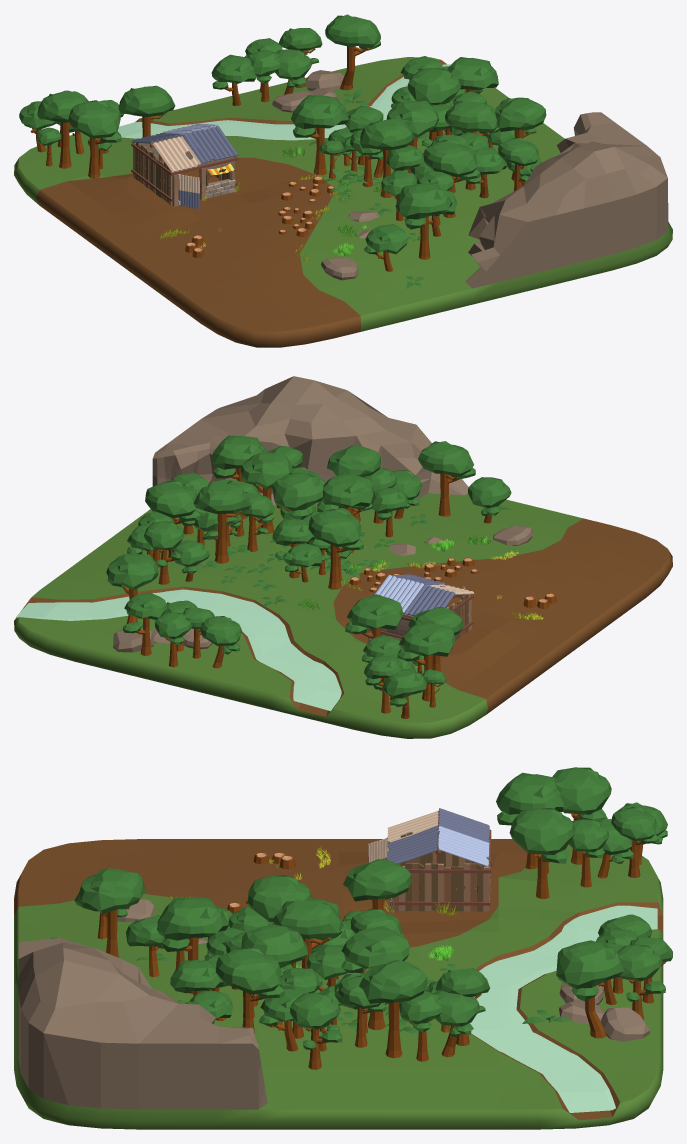
The model's file is rainforest.glb.
3 views of the same model, one above another, from view 1: azimuth 30°, elevation 25°; view 2: azimuth 150°, elevation 25°; view 3: azimuth 270°, elevation 25° (orthographic). The views are drawn at different scales.
Visible parts, largest first — view 1: Cube, Shed, Cube.041, Cube.007, Cube.040, Cube.048, Cube.045, Cube.035, Cube.014, Cube.029, Cube.056, Cube.055 (+18 smaller); view 2: Cube, Shed, Cube.007, Cube.041, Cube.040, Cube.055, Cube.029, Cube.056, Cube.008, Cube.034, Cube.014, Cube.045 (+22 smaller); view 3: Cube, Shed, Cube.045, Cube.056, Cube.020, Cube.034, Cube.035, Cube.041, Cube.040, Cube.029, Cube.055, Cube.048 (+26 smaller).
Part boxes in pixels (<box>): Cube: <box>14,57,672,347</box>; Shed: <box>131,123,238,208</box>; Cube.041: <box>272,70,379,280</box>; Cube.007: <box>291,95,348,175</box>; Cube.040: <box>395,183,452,259</box>; Cube.048: <box>68,100,121,178</box>; Cube.045: <box>325,14,380,90</box>; Cube.035: <box>423,139,480,217</box>; Cube.014: <box>360,118,415,197</box>; Cube.029: <box>407,67,461,147</box>; Cube.056: <box>118,85,175,137</box>; Cube.055: <box>37,91,88,168</box>; Cube: <box>14,376,672,738</box>; Shed: <box>368,574,474,641</box>; Cube.007: <box>308,509,363,589</box>; Cube.041: <box>113,525,532,652</box>; Cube.040: <box>418,441,475,516</box>; Cube.055: <box>397,621,455,701</box>; Cube.029: <box>193,483,250,563</box>; Cube.056: <box>345,594,403,638</box>; Cube.008: <box>272,472,323,519</box>; Cube.034: <box>145,481,200,557</box>; Cube.014: <box>317,472,373,553</box>; Cube.045: <box>106,553,158,623</box>; Cube: <box>14,839,663,1129</box>; Shed: <box>368,808,491,911</box>; Cube.045: <box>556,940,623,1038</box>; Cube.056: <box>509,808,575,898</box>; Cube.020: <box>216,947,284,1033</box>; Cube.034: <box>359,960,427,1058</box>; Cube.035: <box>157,897,228,993</box>; Cube.041: <box>117,898,650,1041</box>; Cube.040: <box>79,868,145,957</box>; Cube.029: <box>341,926,409,1030</box>; Cube.055: <box>552,767,611,864</box>; Cube.048: <box>496,772,563,869</box>.
Bounding box in the file's own units: 11.36 × 2.54 × 11.53.
